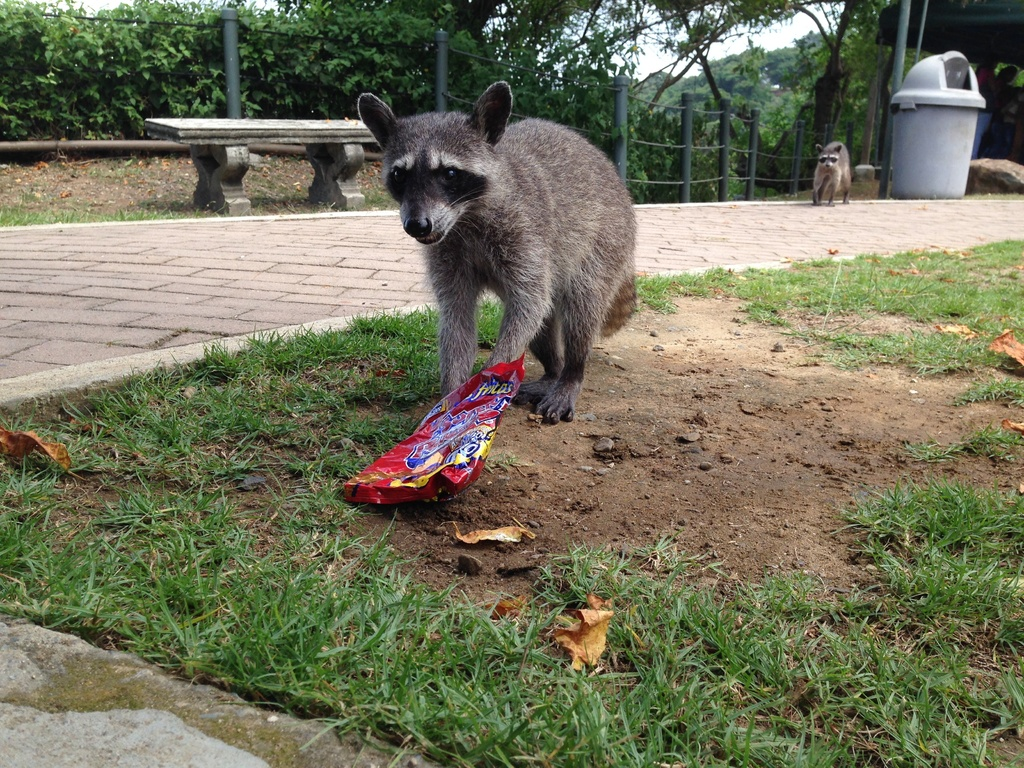raccoon: (353, 81, 640, 426), (811, 140, 849, 209)
